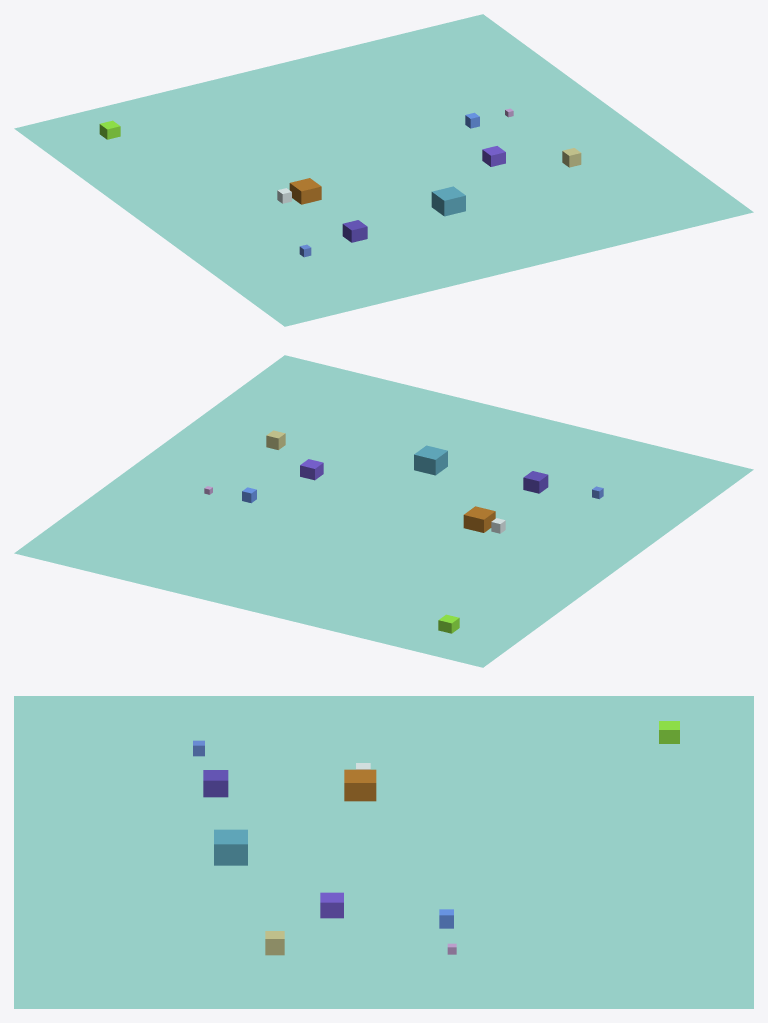
3 views of the same model, one above another, from view 1: azimuth 30°, elevation 25°; view 2: azimuth 150°, elevation 25°; view 3: azimuth 270°, elevation 25° (orthographic). The views are drawn at different scales.
Visible parts, largest first — view 1: Chunk_1_-2; view 2: Chunk_1_-2; view 3: Chunk_1_-2.
Part boxes in pixels (x1,y1,x2,y2): Chunk_1_-2: (14, 14, 753, 326); Chunk_1_-2: (14, 355, 753, 667); Chunk_1_-2: (14, 696, 753, 1008).
Bounding box in the file's own units: 1500 × 71.88 × 1500.
